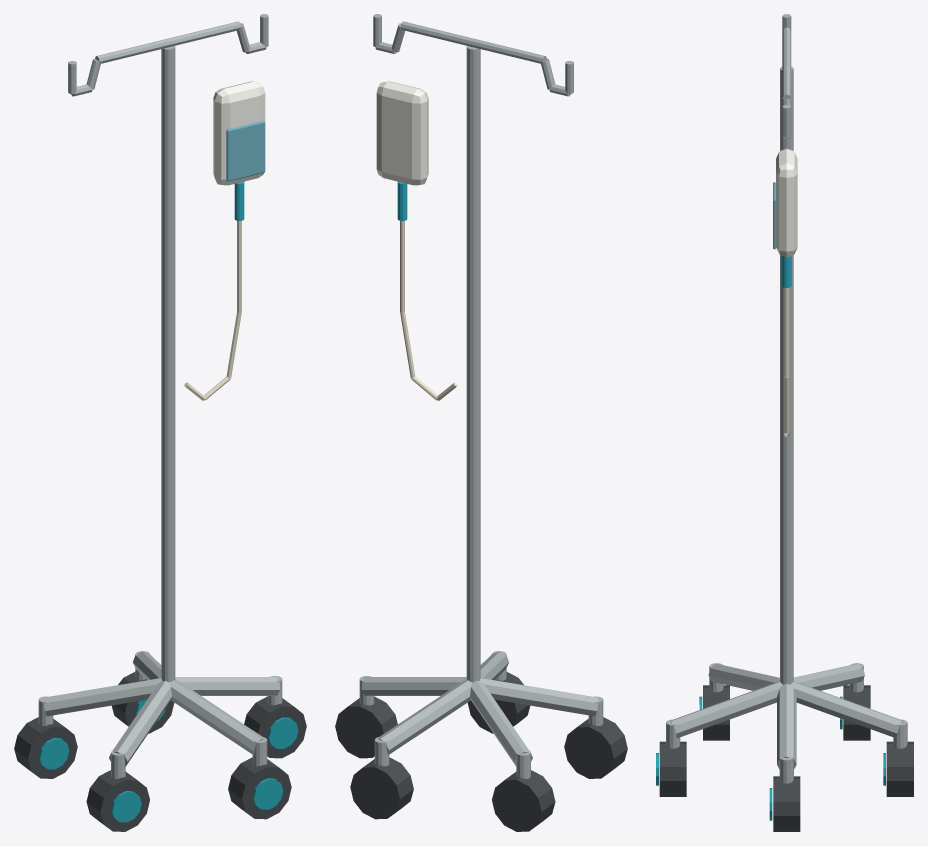
The model's file is iv_stand_starter.glb.
3 renders of one model, left to right at view 1: azimuth 30°, elevation 25°; view 2: azimuth 150°, elevation 25°; view 3: azimuth 270°, elevation 25°, orthographic. The views are drawn at different scales.
Visible parts, largest first — view 1: STATIC_metal, STATIC_rubber, STATIC_teal, STATIC_white, STATIC_glass, STATIC_cream; view 2: STATIC_metal, STATIC_rubber, STATIC_white, STATIC_cream; view 3: STATIC_metal, STATIC_rubber, STATIC_white, STATIC_cream.
Part boxes in pixels (x1,y1,x2,y2): STATIC_metal: (38,14,282,778); STATIC_rubber: (14,672,306,831); STATIC_teal: (39,699,298,822); STATIC_white: (213,81,265,185); STATIC_glass: (226,120,265,181); STATIC_cream: (184,221,241,400); STATIC_metal: (359,14,603,778); STATIC_rubber: (335,672,627,831); STATIC_white: (376,81,428,185); STATIC_cream: (400,221,457,400); STATIC_metal: (666,14,907,783); STATIC_rubber: (659,685,913,831); STATIC_white: (776,148,797,257); STATIC_cream: (784,288,789,437).
Size of the model in its own units: 0.6827 by 1.99 by 0.6476.
